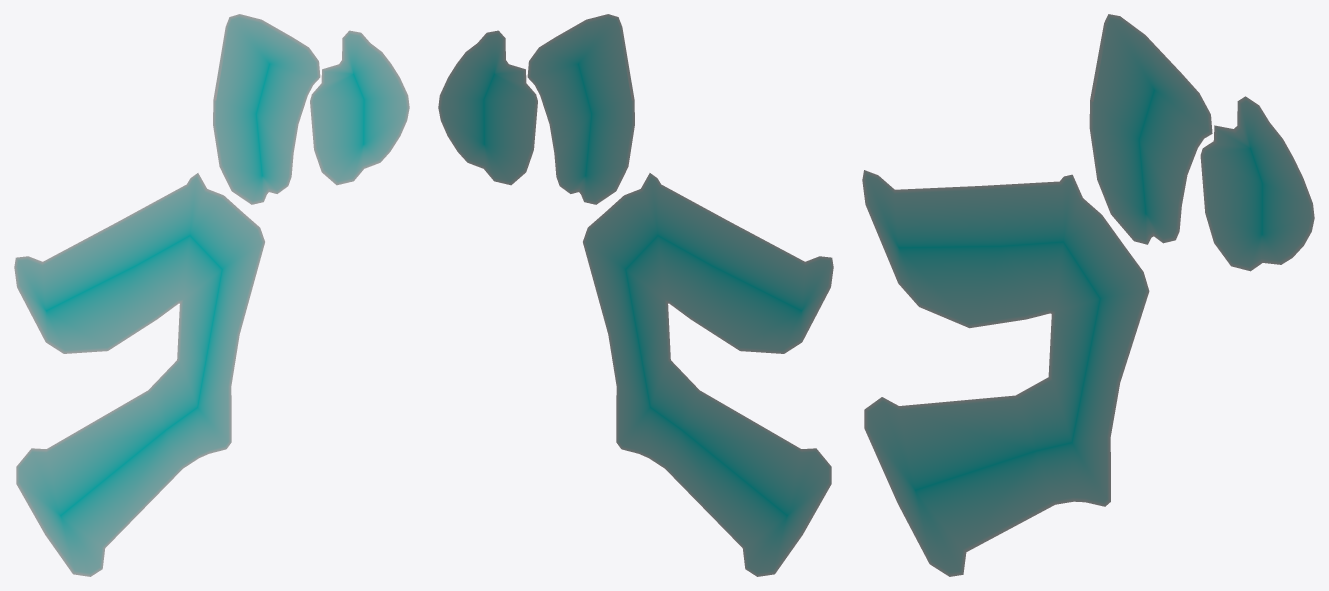
Rendered from SM_EFF_Text_PlanetaryDevastation_01.glb.
3 views of the same model, side by side, from view 1: azimuth 30°, elevation 25°; view 2: azimuth 150°, elevation 25°; view 3: azimuth 330°, elevation 25° (orthographic). The views are drawn at different scales.
Parts seen in each view (by area): view 1: SM_EFF_Text_PlanetaryDevastation_01; view 2: SM_EFF_Text_PlanetaryDevastation_01; view 3: SM_EFF_Text_PlanetaryDevastation_01.
Part boxes in pixels (<box>): SM_EFF_Text_PlanetaryDevastation_01: <box>14,14,409,576</box>; SM_EFF_Text_PlanetaryDevastation_01: <box>438,14,833,576</box>; SM_EFF_Text_PlanetaryDevastation_01: <box>862,14,1314,576</box>.
Size of the model in its own units: 1.51 by 1.93 by 1.18e-16.
